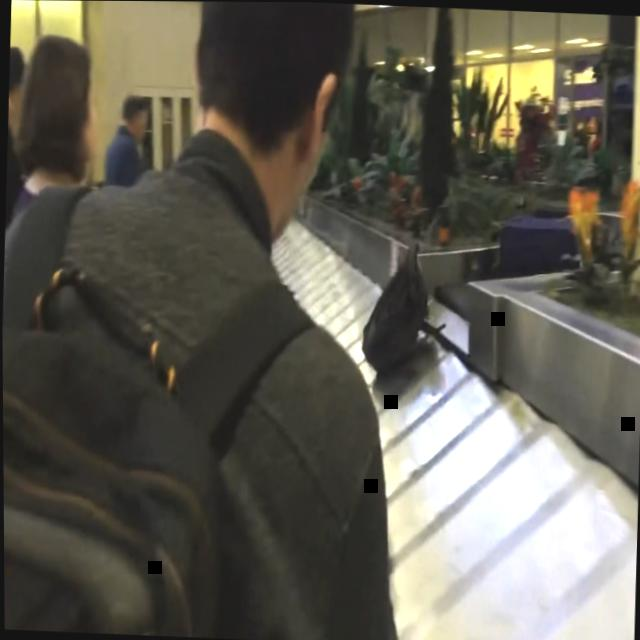luggage: (360, 235, 430, 375), (489, 212, 579, 281)
